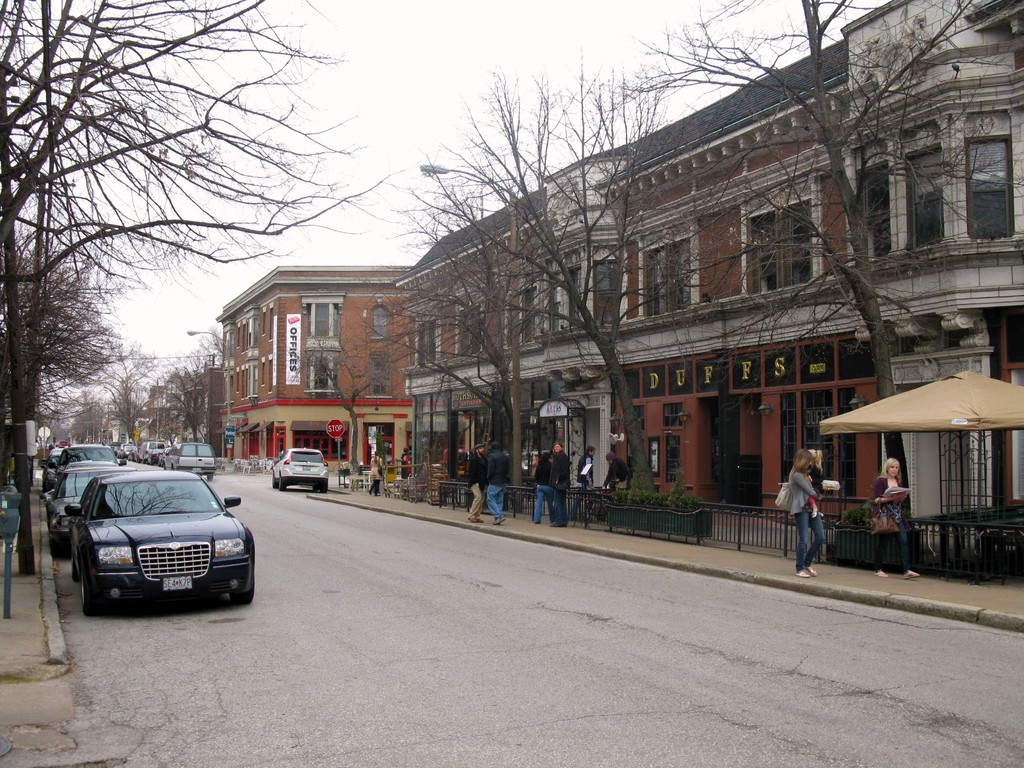Car: (38, 442, 254, 616), (271, 446, 329, 494)
